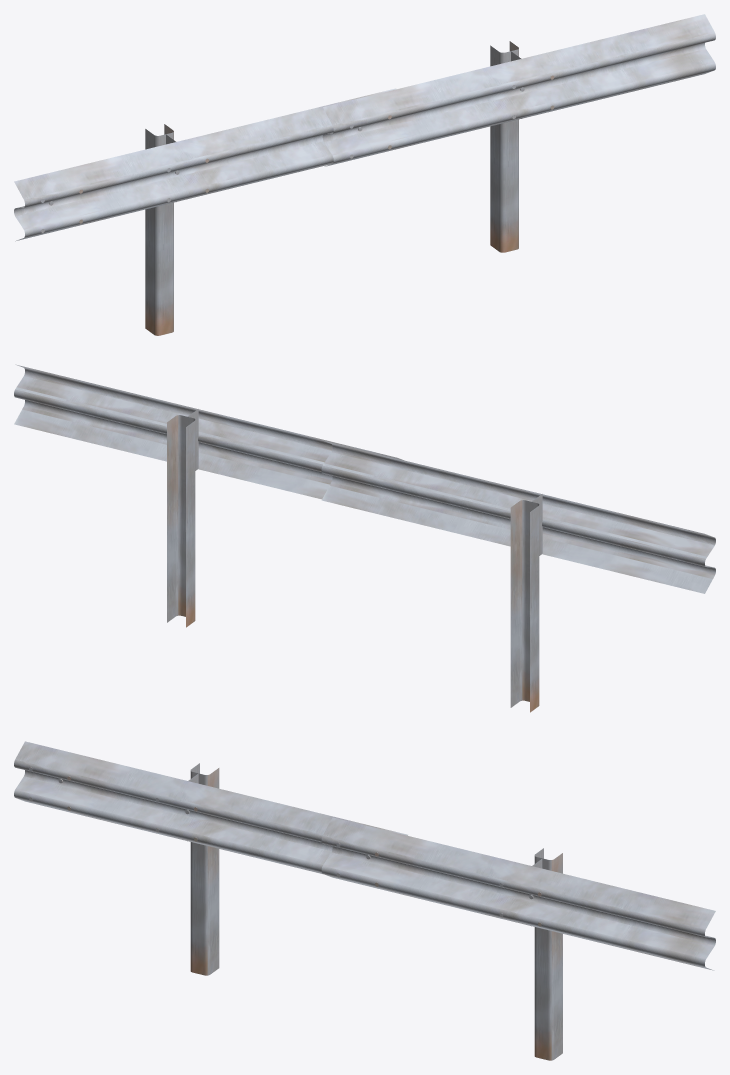
Rendered from guard_rail.glb.
3 views of the same model, one above another, from view 1: azimuth 30°, elevation 25°; view 2: azimuth 150°, elevation 25°; view 3: azimuth 330°, elevation 25° (orthographic).
Visible parts, largest first — view 1: Material2 (×2); view 2: Material2 (×2); view 3: Material2 (×2).
Part boxes in pixels (bbox=[...]): Material2 (×2): bbox=[14, 14, 715, 335]; Material2 (×2): bbox=[14, 364, 715, 712]; Material2 (×2): bbox=[14, 741, 715, 1060].
Bounding box in the file's own units: 142 × 39.37 × 12.2.
Materials: 3 (3 with a texture image).
